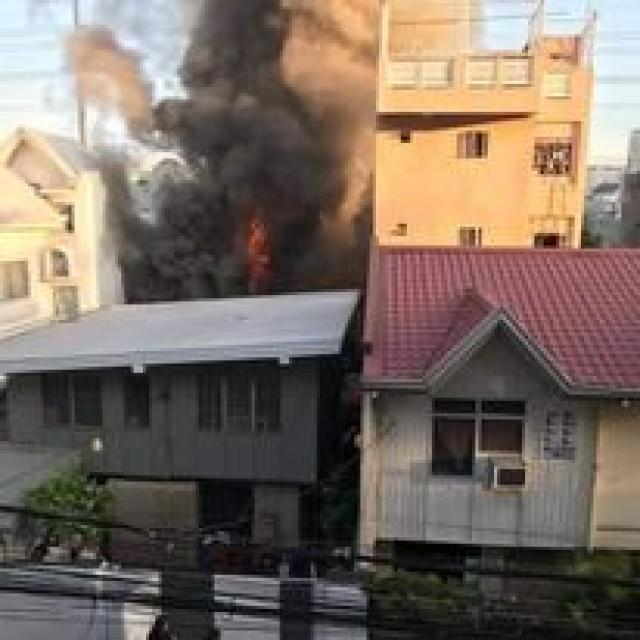Fire: (234, 212, 276, 294)
Smoke: (119, 0, 383, 304)
